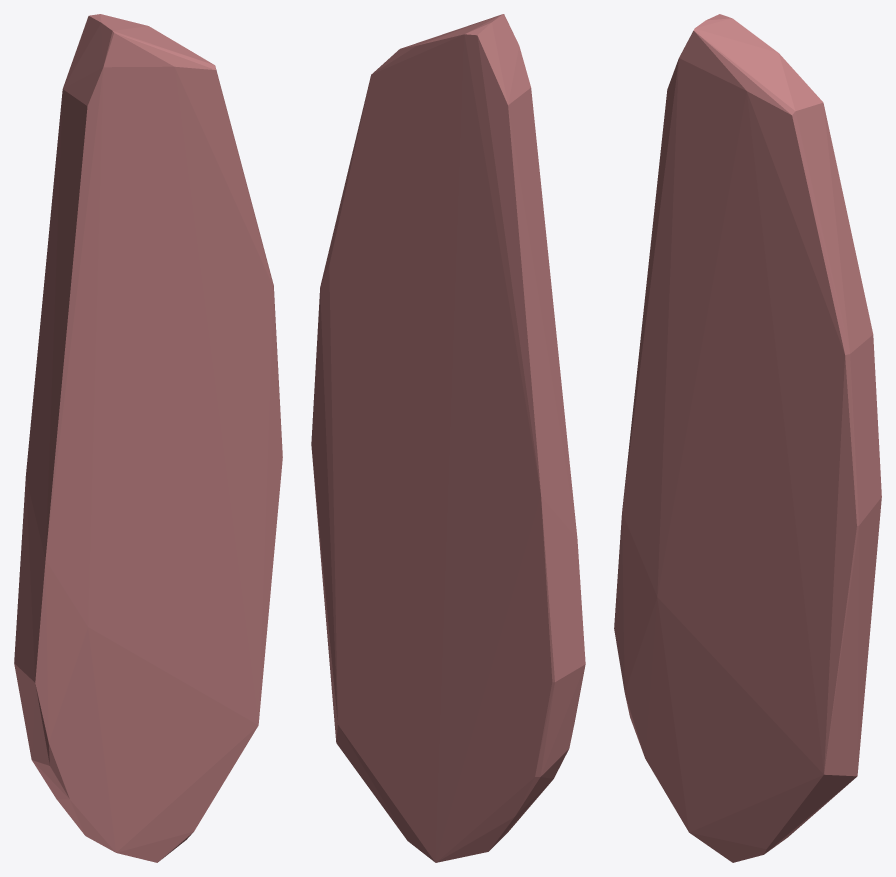
Rendered from food_prepared_steak_c01.glb.
3 views of the same model, side by side, from view 1: azimuth 30°, elevation 25°; view 2: azimuth 150°, elevation 25°; view 3: azimuth 330°, elevation 25° (orthographic). The views are drawn at different scales.
Visible parts, largest first — view 1: geometry_0; view 2: geometry_0; view 3: geometry_0.
Part boxes in pixels (left/top/right/bottom): geometry_0: left=14, top=14, right=282, bottom=862; geometry_0: left=311, top=14, right=585, bottom=862; geometry_0: left=614, top=14, right=881, bottom=862.
Size of the model in its own units: 0.1484 by 0.4788 by 0.0338.
